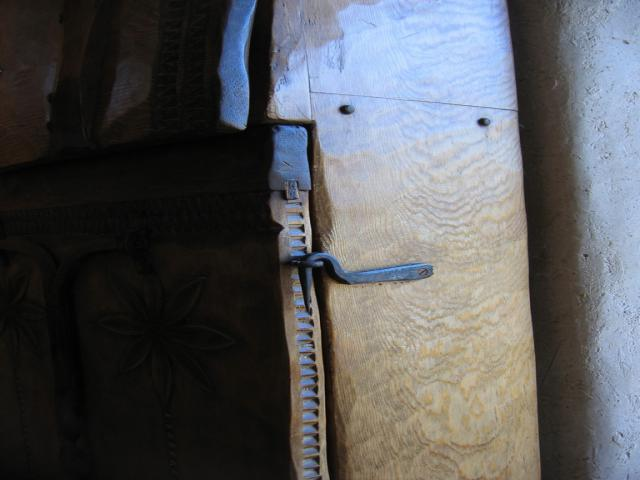Door-handle: (288, 251, 440, 315)
